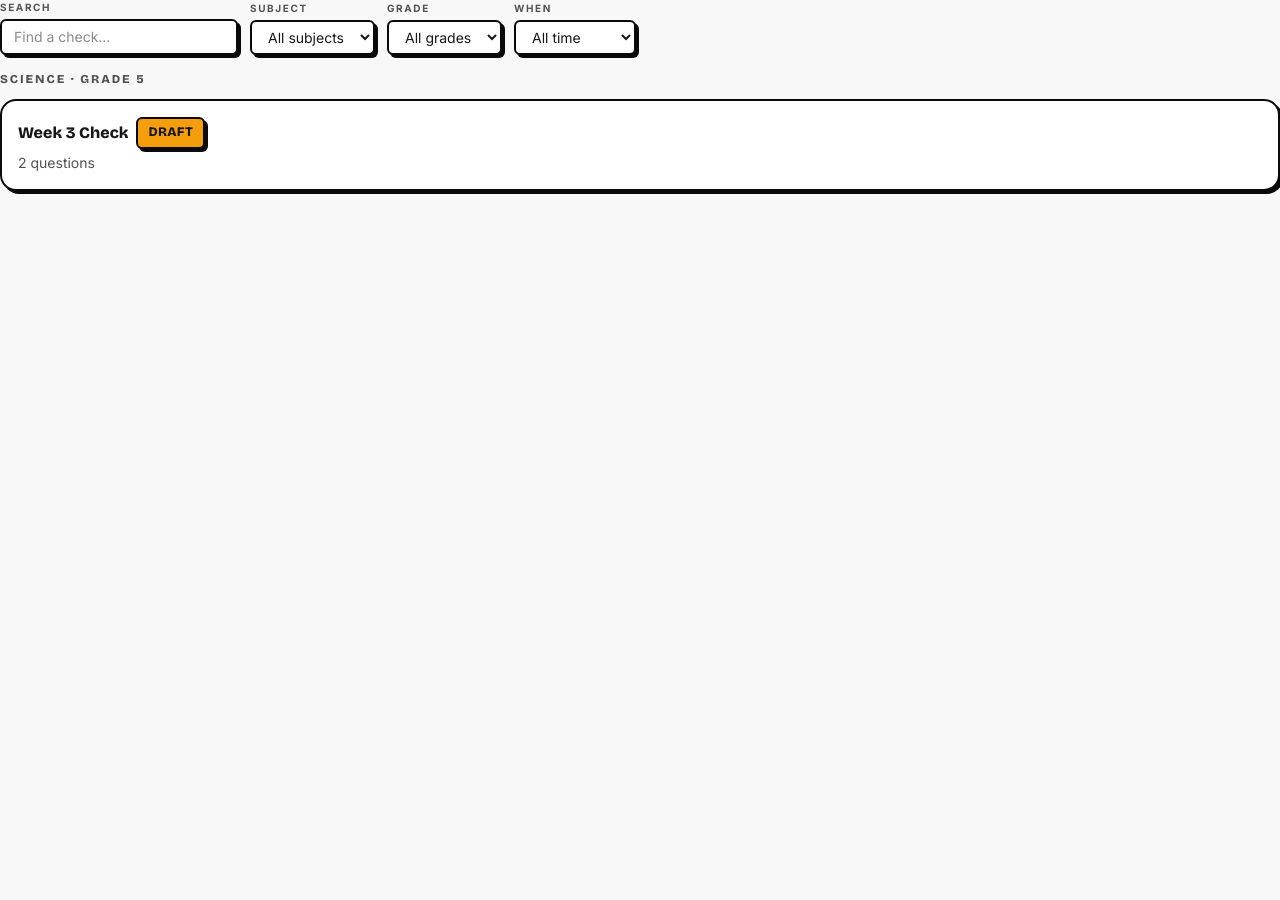
Test case: QuizEditPanel — correct_answer display › renders the correct answer for an MCQ question in the edit panel
// Click on the quiz to open the edit panel
Click the button "Week 3 Check Draft 2 questions" at (73, 132), box [0,99,1279,190]
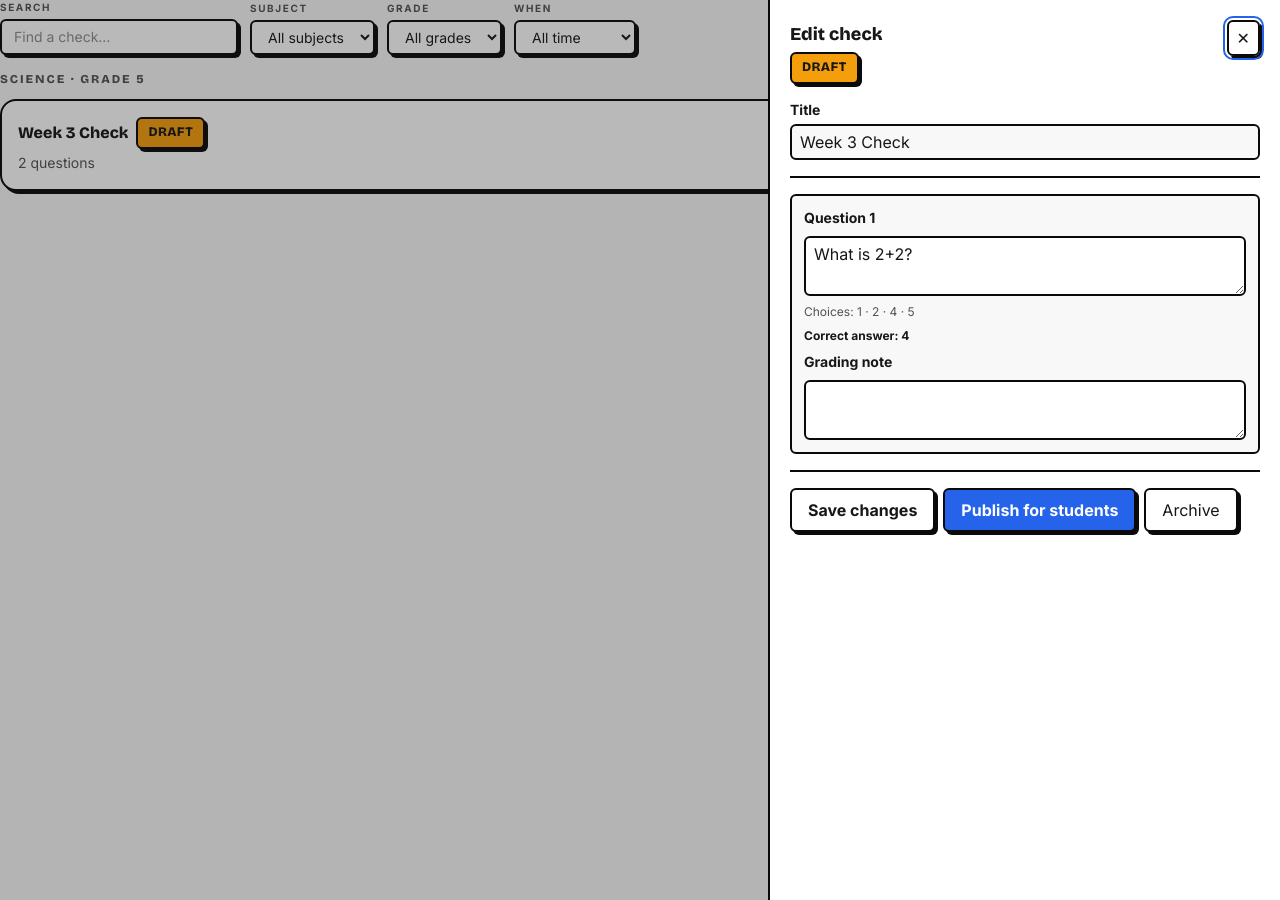
expect the text "Correct answer: 4" is shown: met, box [804,328,910,342]
